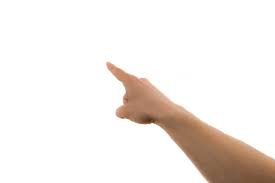hand: (95, 52, 178, 134)
